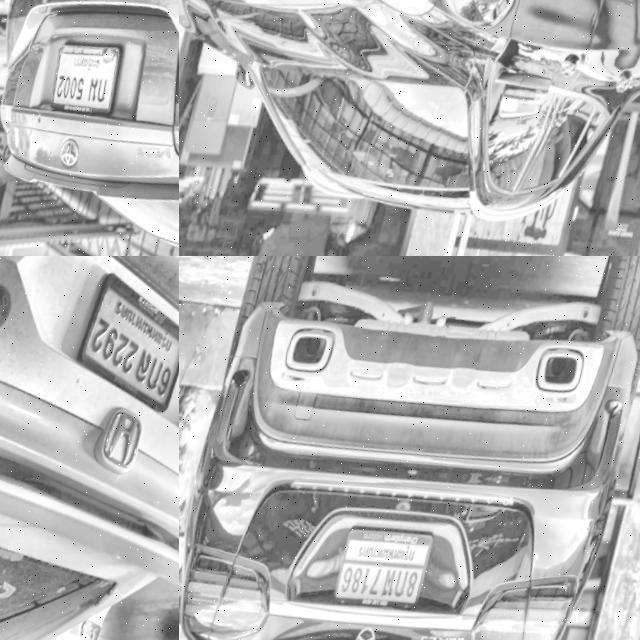license-plate: (64, 269, 179, 438), (336, 521, 441, 623), (39, 30, 134, 139)
